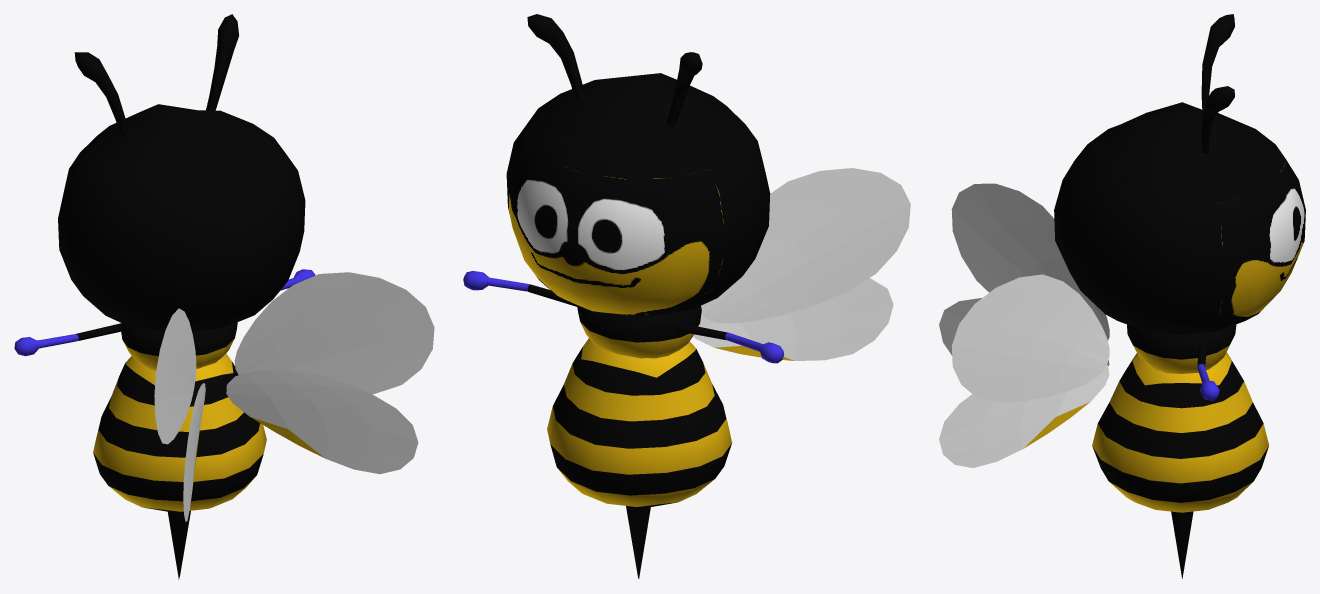
The model's file is Rocky3.glb.
The picture shows the model from 3 angles, left to right: view 1: azimuth 30°, elevation 25°; view 2: azimuth 150°, elevation 25°; view 3: azimuth 270°, elevation 25°; orthographic projection. The views are drawn at different scales.
Visible parts, largest first — view 1: Object_7; view 2: Object_7; view 3: Object_7.
Boxes of the visible parts, x1=… form: Object_7: x1=14, y1=14, x2=434, y2=579; Object_7: x1=463, y1=14, x2=910, y2=578; Object_7: x1=939, y1=14, x2=1305, y2=578.
Bounding box in the file's own units: 2.75 × 4.64 × 2.92.
Materials: 4 (1 with a texture image).
